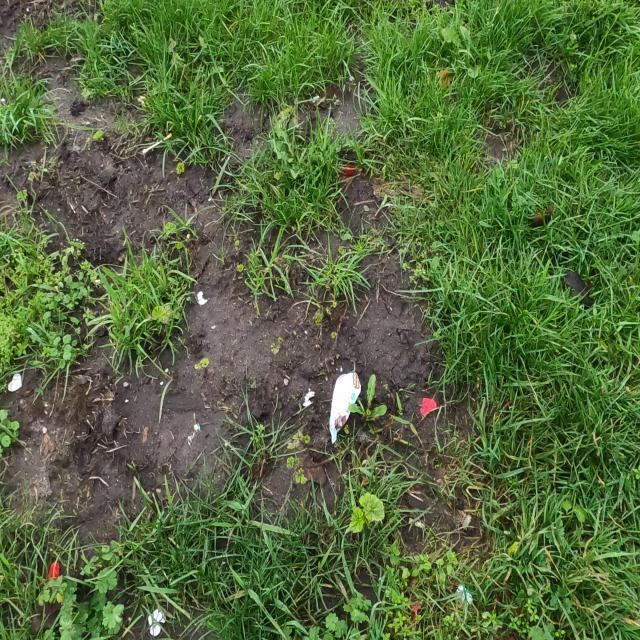Paper: (303, 388, 315, 407)
Plastic: (329, 372, 362, 445)
